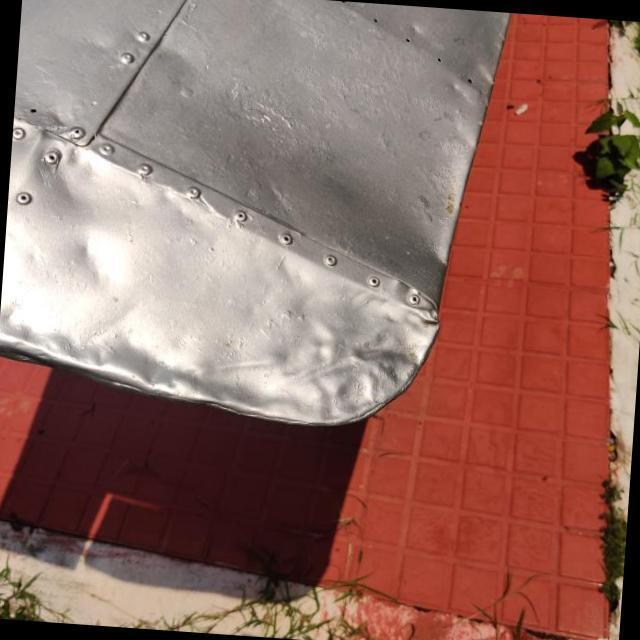Dent: (0, 286, 281, 423), (285, 299, 443, 437), (15, 124, 102, 223), (62, 214, 142, 300)
